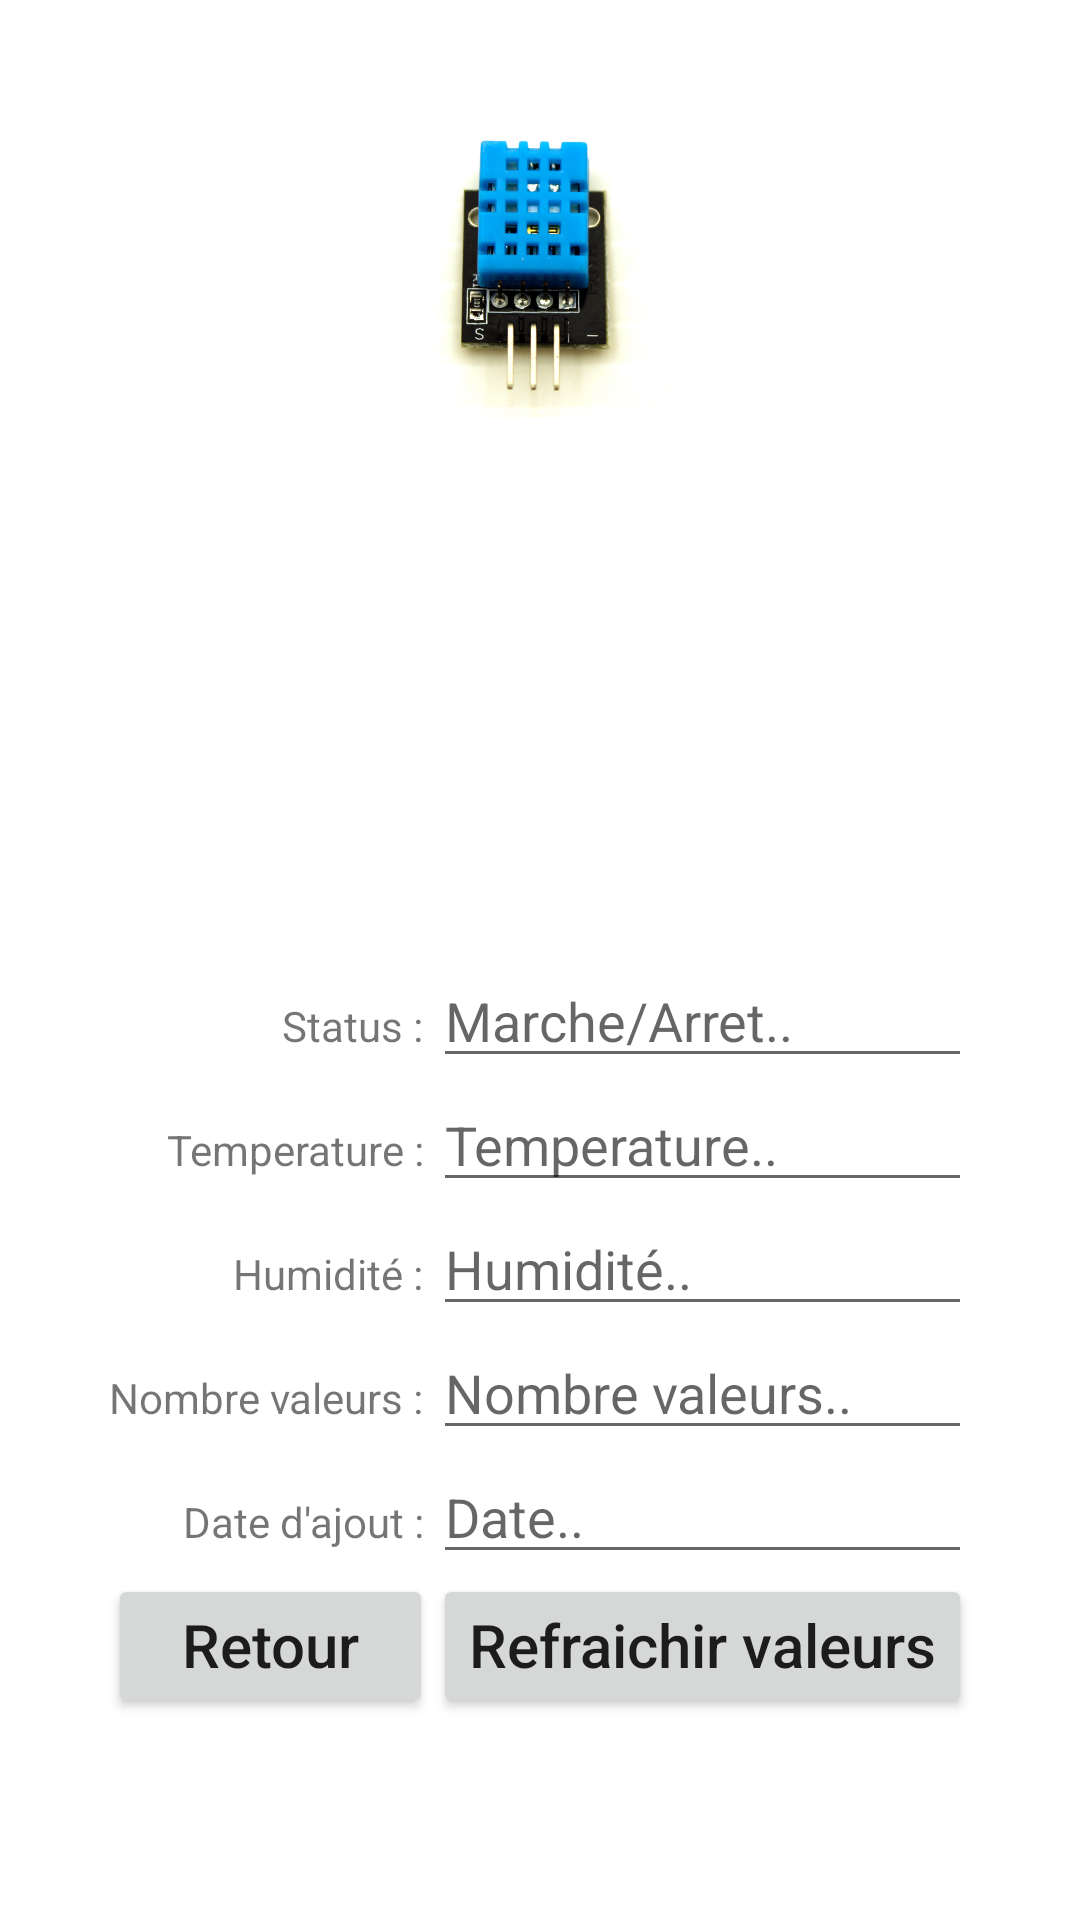

Screen size 1080×1920. Icon name, then its box in pixels as (x1, y1, x2, y2):
dhtsensor: (448, 140, 664, 410)
